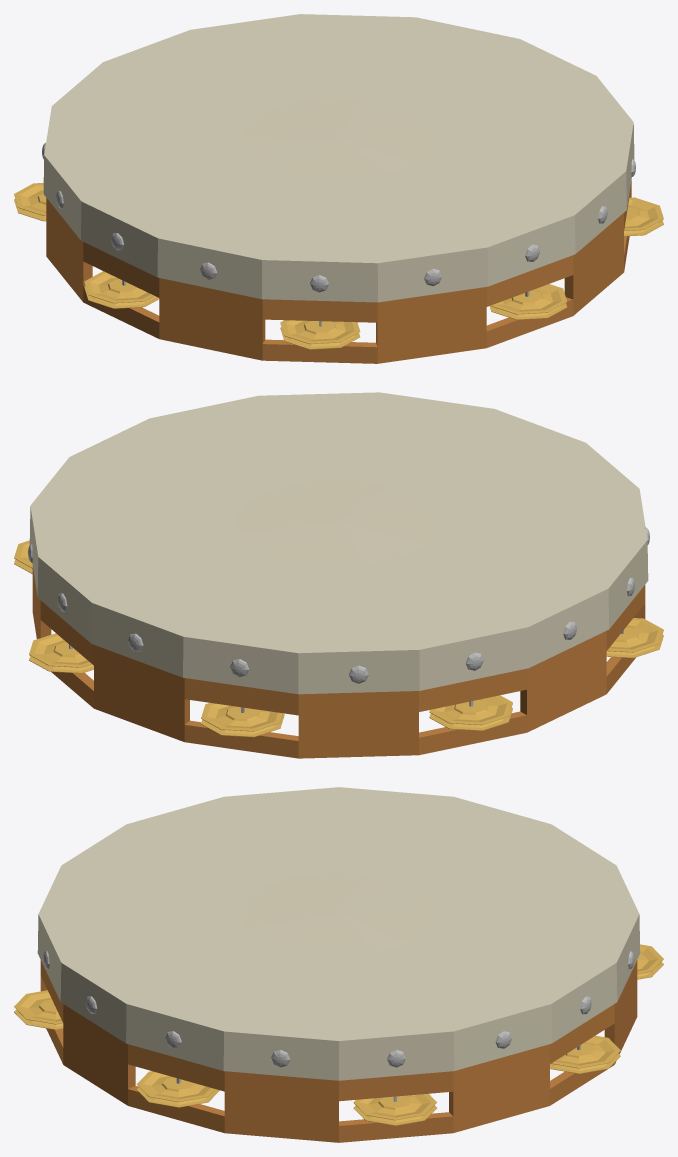
The model's file is pandeiro.gltf.
3 renders of one model, top to bottom at view 1: azimuth 30°, elevation 25°; view 2: azimuth 150°, elevation 25°; view 3: azimuth 270°, elevation 25°, orthographic. The views are drawn at different scales.
Parts seen in each view (by area): view 1: Object_7, Object_6, Object_5, Object_4; view 2: Object_7, Object_6, Object_5, Object_4; view 3: Object_7, Object_6, Object_5, Object_4.
Boxes of the visible parts, left/top/right/bottom form: Object_7: left=43, top=14, right=634, bottom=302; Object_6: left=46, top=180, right=631, bottom=363; Object_5: left=14, top=183, right=663, bottom=349; Object_4: left=42, top=143, right=635, bottom=326; Object_7: left=29, top=392, right=648, bottom=694; Object_6: left=32, top=567, right=645, bottom=758; Object_5: left=14, top=540, right=663, bottom=737; Object_4: left=28, top=527, right=649, bottom=712; Object_7: left=37, top=787, right=640, bottom=1080; Object_6: left=40, top=960, right=637, bottom=1142; Object_5: left=14, top=944, right=663, bottom=1125; Object_4: left=43, top=951, right=634, bottom=1101.
Size of the model in its own units: 2.18 by 0.383 by 2.18.
